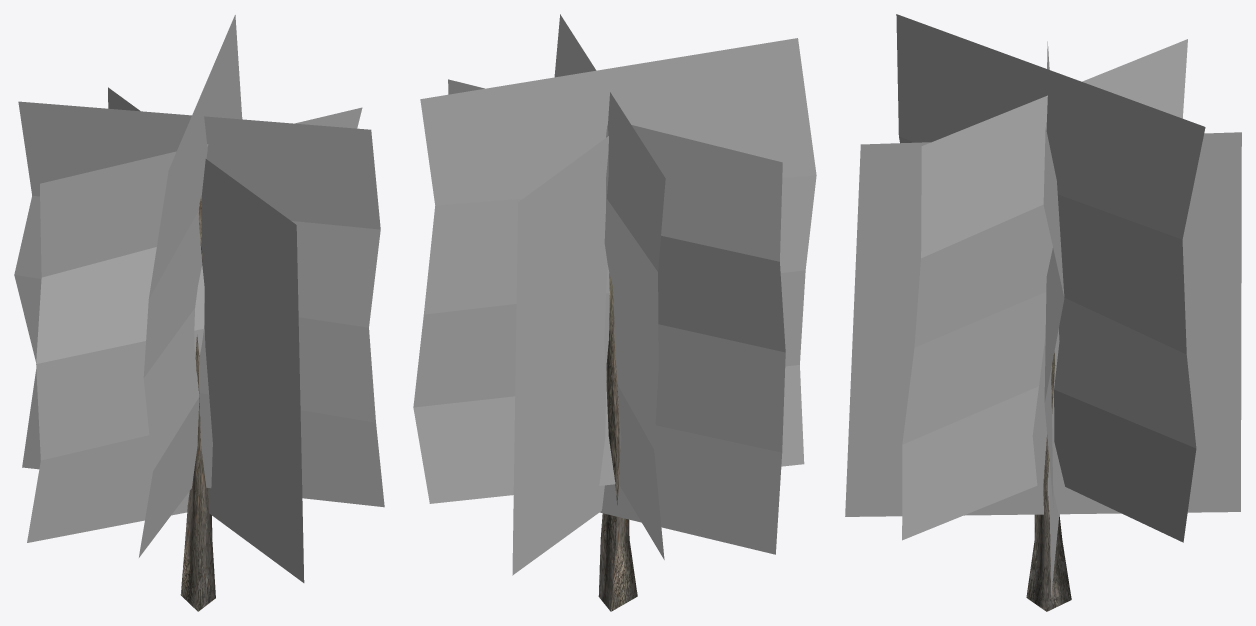
Rendered from tree.fbx.
3 renders of one model, left to right at view 1: azimuth 30°, elevation 25°; view 2: azimuth 150°, elevation 25°; view 3: azimuth 270°, elevation 25°, orthographic. The views are drawn at different scales.
Visible parts, largest first — view 1: Tree; view 2: Tree; view 3: Tree.
Part boxes in pixels (x1,y1,x2,y2): Tree: (14,15,384,611); Tree: (413,14,816,611); Tree: (845,14,1241,611).
Bounding box in the file's own units: 493 × 717 × 480.
